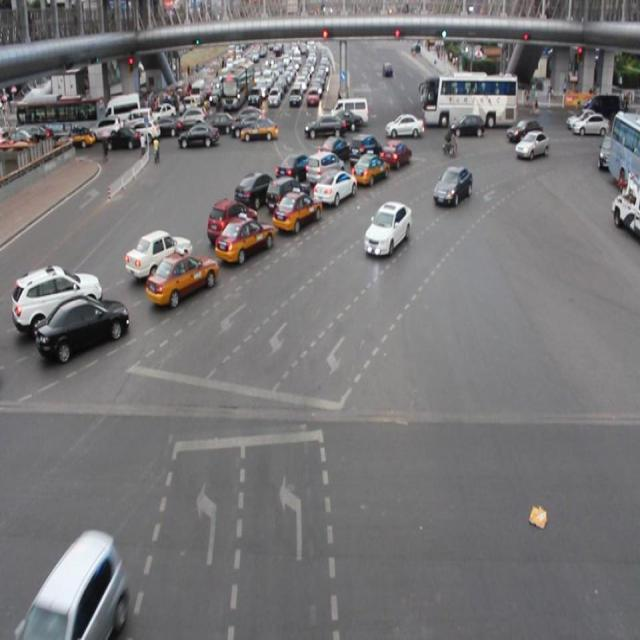car: (33, 293, 134, 359), (9, 263, 104, 331), (146, 250, 220, 309), (122, 228, 192, 278), (214, 215, 276, 265), (204, 192, 258, 245), (362, 201, 412, 258), (270, 186, 324, 236), (263, 171, 311, 213), (431, 163, 474, 209), (310, 170, 358, 207), (233, 170, 276, 210), (304, 146, 345, 187), (350, 152, 391, 190), (346, 131, 384, 169), (273, 151, 313, 187), (376, 134, 413, 172), (513, 130, 550, 165), (318, 134, 353, 166)
truck: (18, 524, 134, 640)
